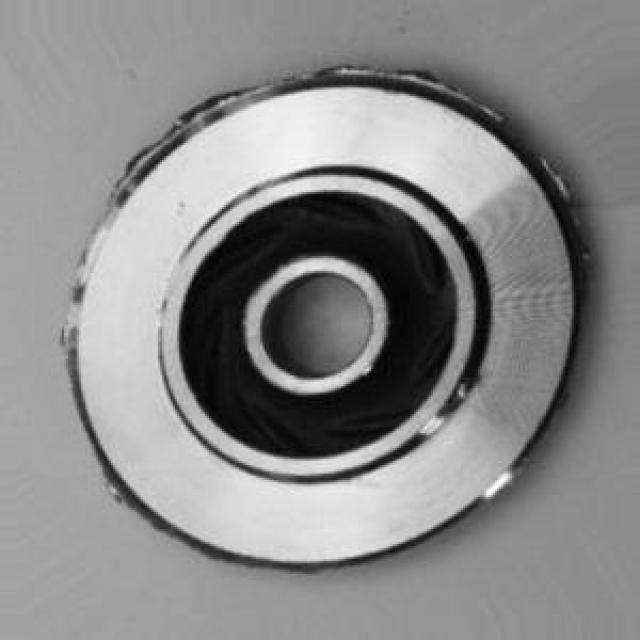Defect: (321, 57, 508, 120)
